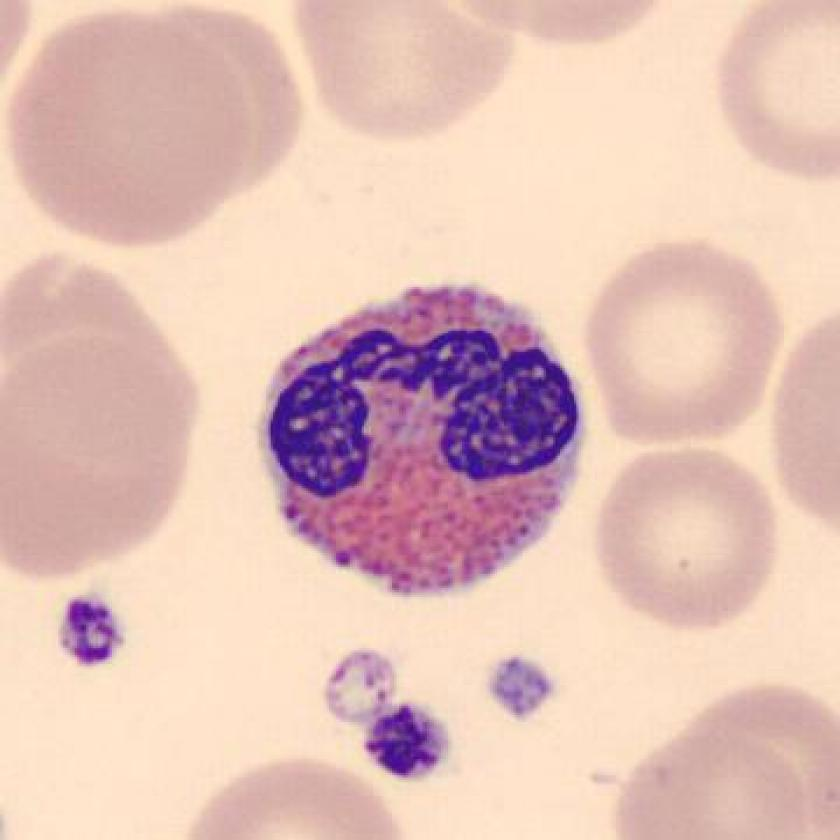eosinophil: (246, 258, 591, 619)
